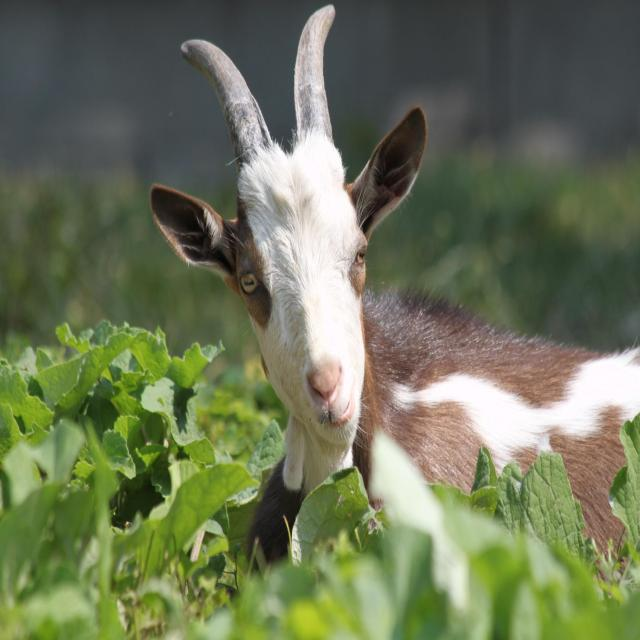Goat: (146, 7, 640, 575)
